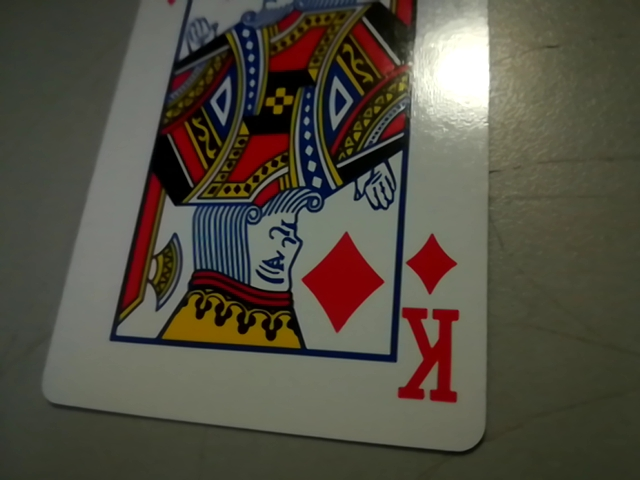fk k: (389, 228, 473, 417)
